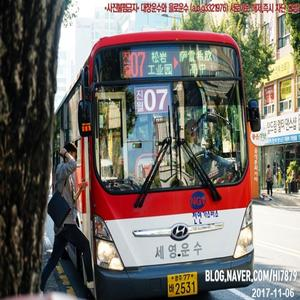07bus: (61, 35, 266, 298)
frontdoor: (55, 88, 108, 285)
